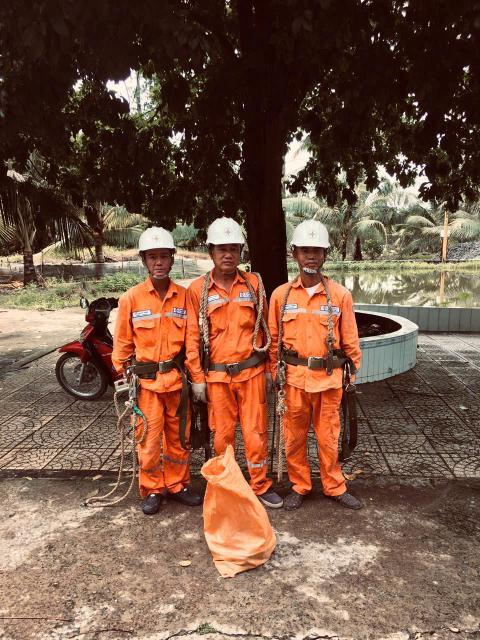gloves: (190, 378, 212, 406), (256, 370, 278, 398)
harness: (105, 348, 199, 383), (278, 342, 355, 377), (197, 350, 274, 384)
helmet: (270, 211, 347, 262), (195, 212, 253, 253), (129, 223, 182, 255)
shoes: (323, 479, 366, 517), (166, 479, 210, 513), (277, 473, 306, 515), (251, 481, 287, 509), (133, 489, 166, 519)
